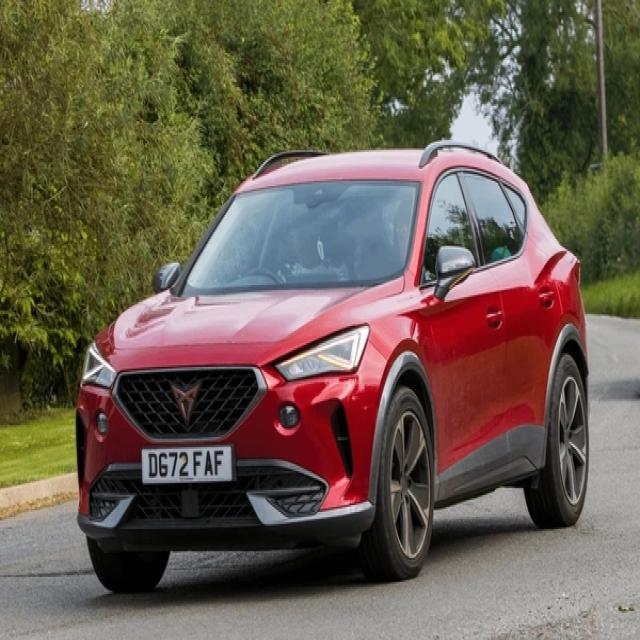cupra: (161, 375, 209, 431)
